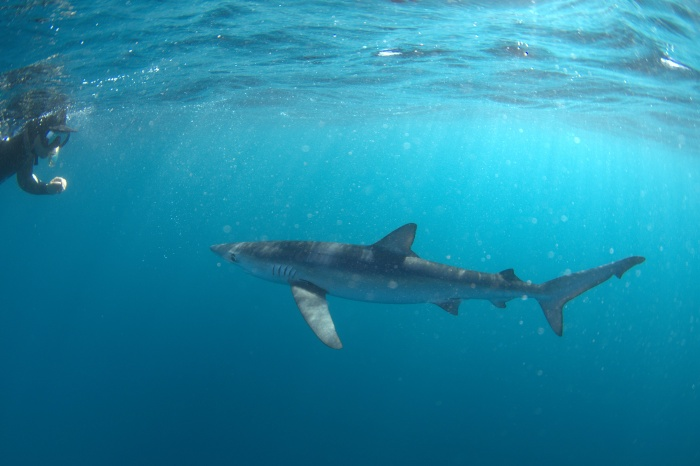Azul: (189, 204, 671, 379)
